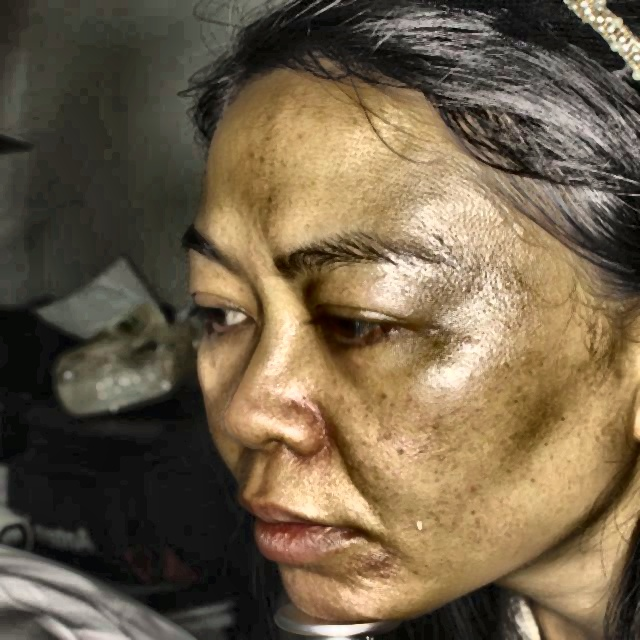comedone: (350, 550, 392, 583)
